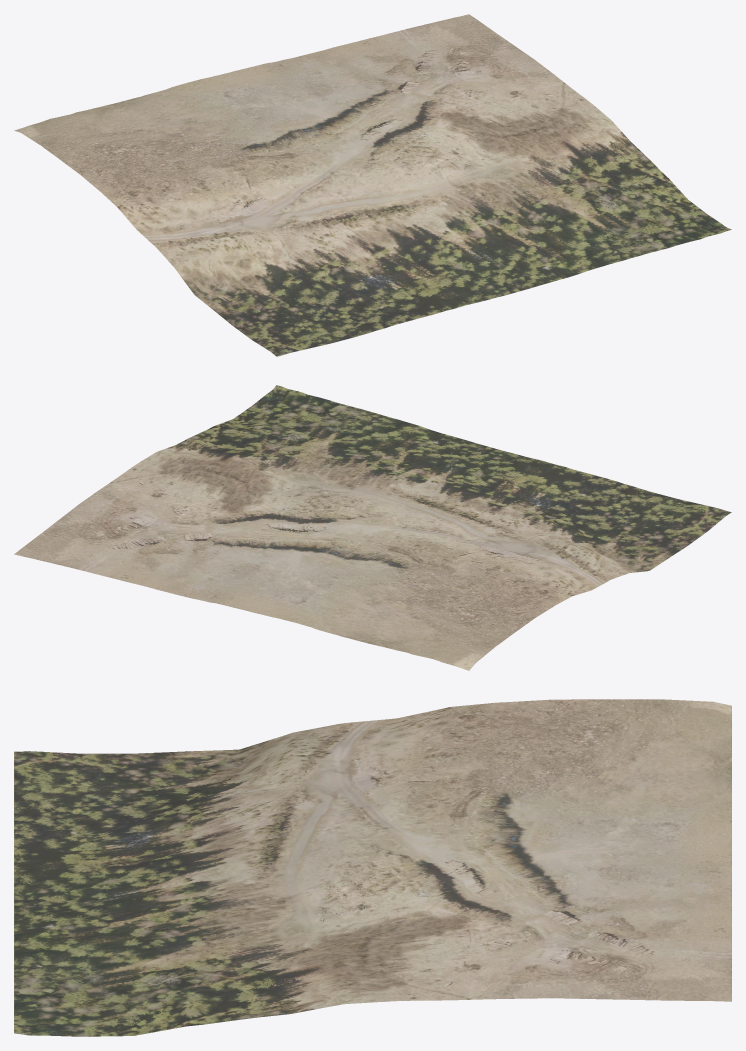
File: CM_Terrain_24493530_6814469.fbx
3 renders of one model, top to bottom at view 1: azimuth 30°, elevation 25°; view 2: azimuth 150°, elevation 25°; view 3: azimuth 270°, elevation 25°, orthographic. The views are drawn at different scales.
Visible parts, largest first — view 1: CM_Terrain_24493530_6814469_LOD0; view 2: CM_Terrain_24493530_6814469_LOD0; view 3: CM_Terrain_24493530_6814469_LOD0.
Boxes of the visible parts, left/top/right/bottom form: CM_Terrain_24493530_6814469_LOD0: left=14, top=14, right=731, bottom=356; CM_Terrain_24493530_6814469_LOD0: left=14, top=385, right=731, bottom=670; CM_Terrain_24493530_6814469_LOD0: left=14, top=699, right=731, bottom=1036.
Size of what is drawn, in the model's own units: 205 by 18.68 by 205.
